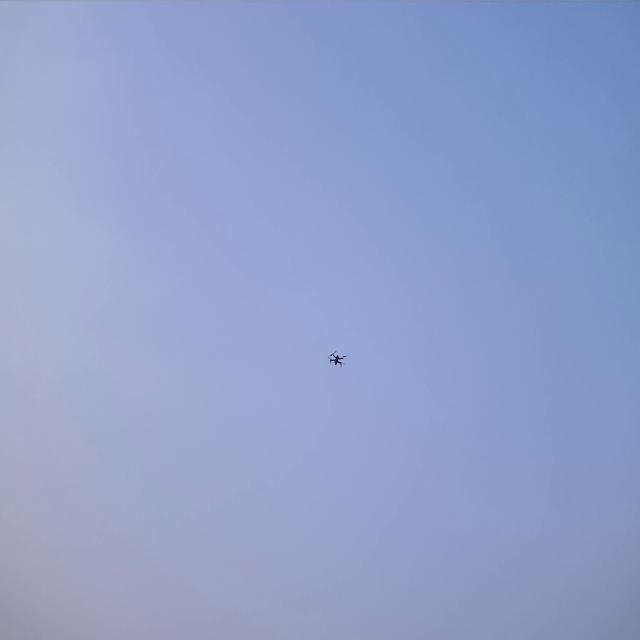UAV: (326, 349, 348, 370)
